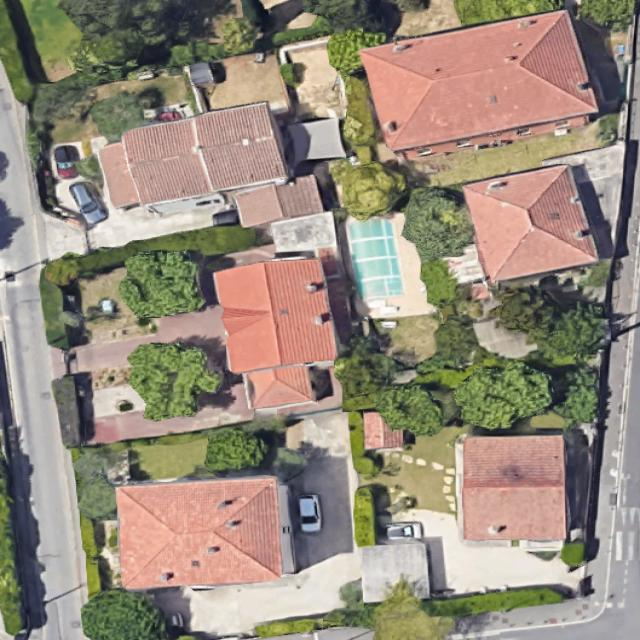maison: (94, 90, 322, 259), (361, 6, 603, 165), (211, 252, 343, 415), (117, 476, 294, 588), (463, 163, 598, 283), (455, 434, 564, 542)
